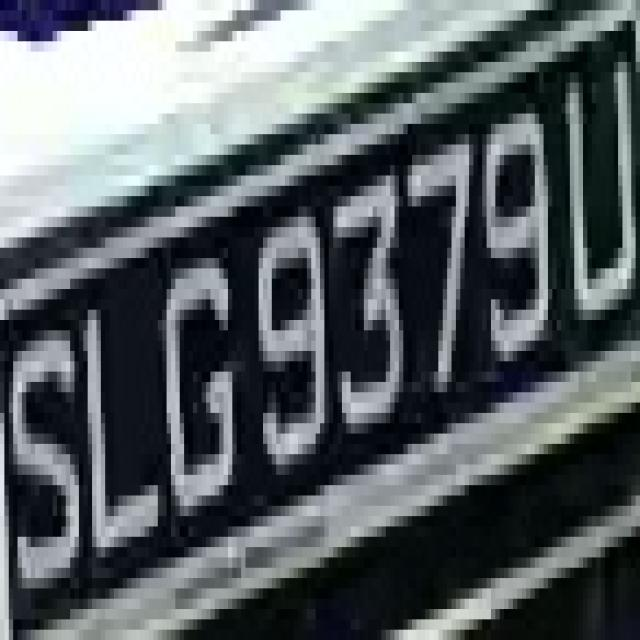3: (320, 155, 408, 464)
7: (381, 124, 478, 433)
9: (469, 62, 557, 382), (246, 175, 333, 475)
G: (154, 258, 245, 568)
L: (79, 258, 171, 568)
S: (8, 299, 88, 599)
U: (556, 41, 640, 340)
